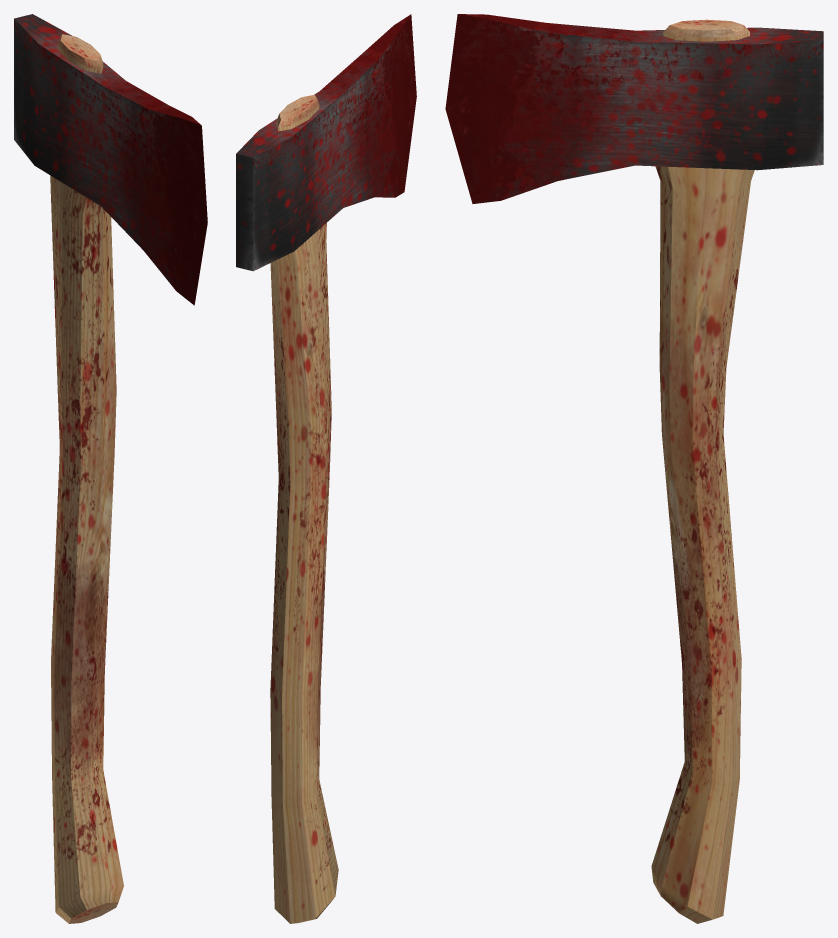
File: weapon_axe.fbx
The picture shows the model from 3 angles, left to right: view 1: azimuth 30°, elevation 25°; view 2: azimuth 150°, elevation 25°; view 3: azimuth 270°, elevation 25°; orthographic projection. The views are drawn at different scales.
Visible parts, largest first — view 1: weapon_axe; view 2: weapon_axe; view 3: weapon_axe.
Boxes of the visible parts, x1=… form: weapon_axe: x1=14, y1=14, x2=207, y2=923; weapon_axe: x1=236, y1=14, x2=416, y2=923; weapon_axe: x1=445, y1=14, x2=823, y2=923.
Size of the model in its own units: 4.68 by 64.11 by 24.2.
